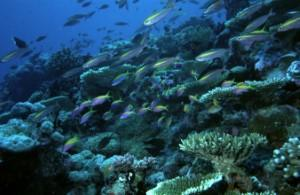bleached_corals: (145, 131, 269, 195)
